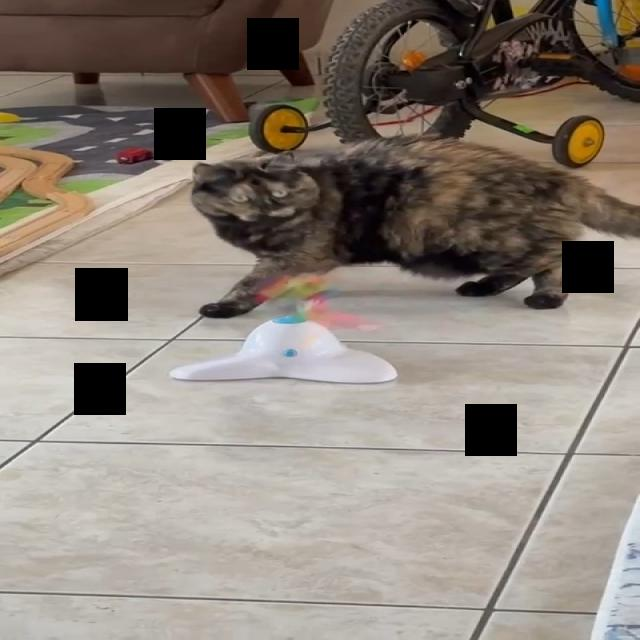authorized: (188, 133, 639, 318)
